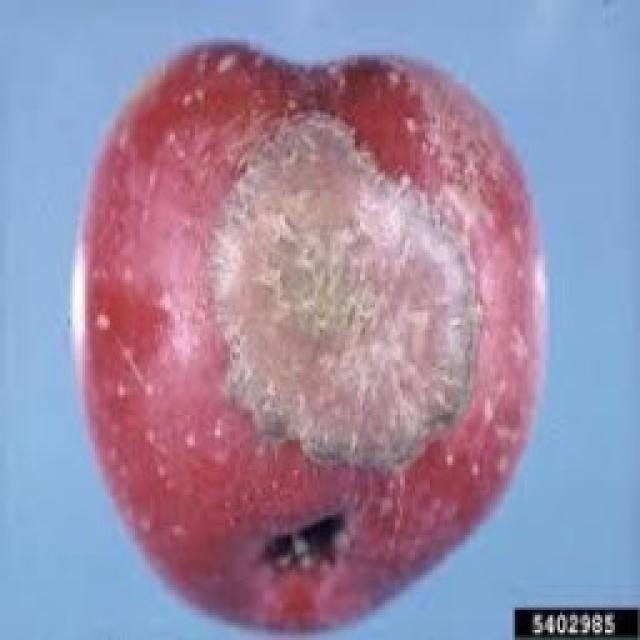defective: (68, 35, 548, 632)
